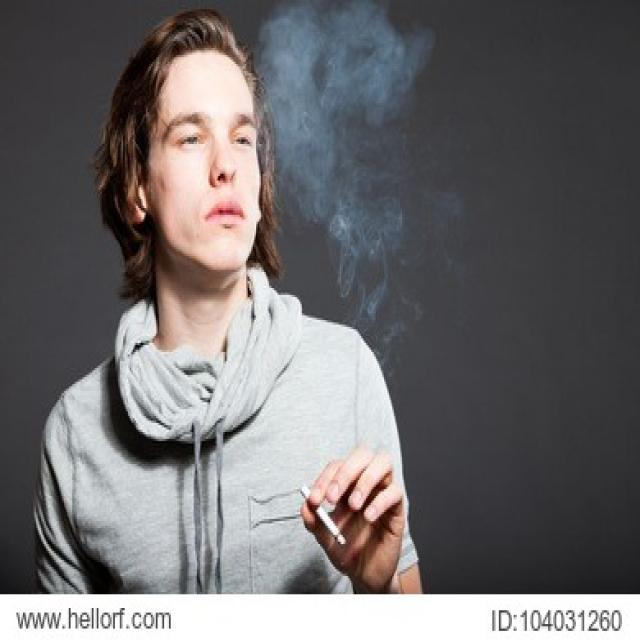cigarette: (291, 476, 356, 562)
